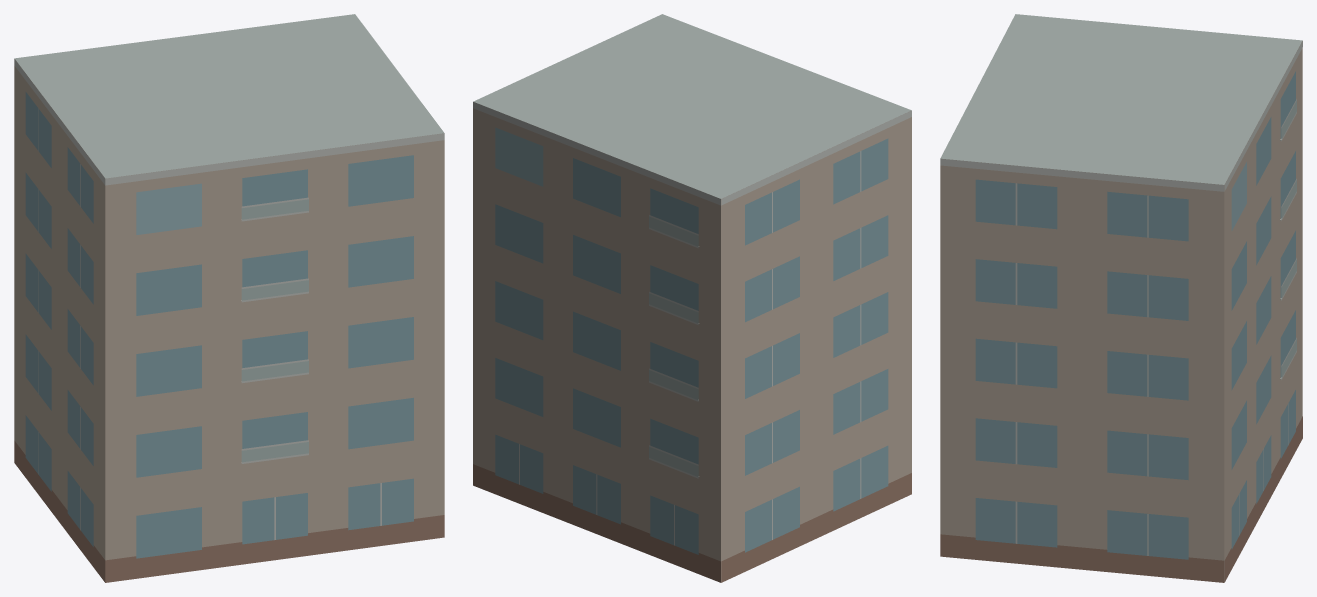
The model's file is survey-upis-32539317.glb.
3 views of the same model, side by side, from view 1: azimuth 30°, elevation 25°; view 2: azimuth 150°, elevation 25°; view 3: azimuth 270°, elevation 25° (orthographic). The views are drawn at different scales.
Parts seen in each view (by area): view 1: survey-upis-32539317.tmp; view 2: survey-upis-32539317.tmp; view 3: survey-upis-32539317.tmp.
Part boxes in pixels (bbox=[...]): survey-upis-32539317.tmp: bbox=[14, 14, 444, 582]; survey-upis-32539317.tmp: bbox=[473, 14, 911, 582]; survey-upis-32539317.tmp: bbox=[940, 14, 1302, 582].
Size of the model in its own units: 13 by 14.1 by 11.65.
